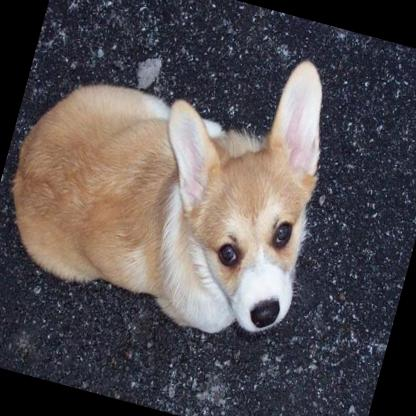Pembroke: (0, 0, 355, 353)
